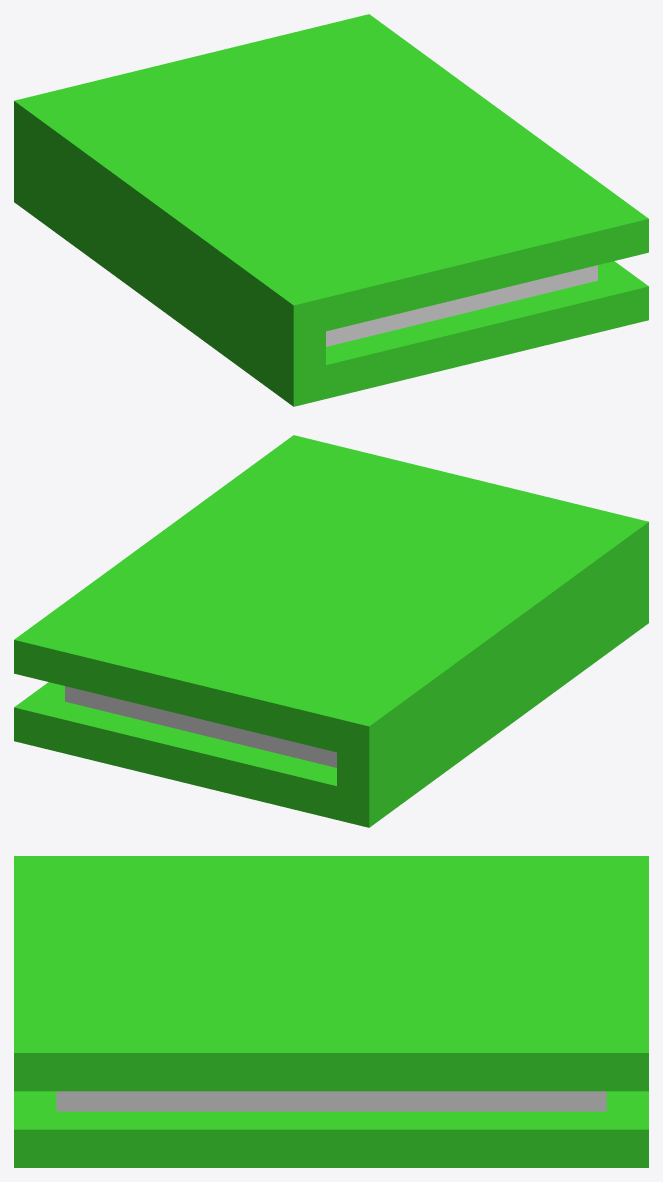
File: books (2).fbx
3 renders of one model, top to bottom at view 1: azimuth 30°, elevation 25°; view 2: azimuth 150°, elevation 25°; view 3: azimuth 270°, elevation 25°, orthographic. The views are drawn at different scales.
Parts seen in each view (by area): view 1: Cube; view 2: Cube; view 3: Cube.
Boxes of the visible parts, x1,y1,x2,y2 form: Cube: [14, 14, 648, 406]; Cube: [14, 435, 648, 827]; Cube: [14, 856, 648, 1167].
Size of the model in its own units: 209 by 57.06 by 285.
